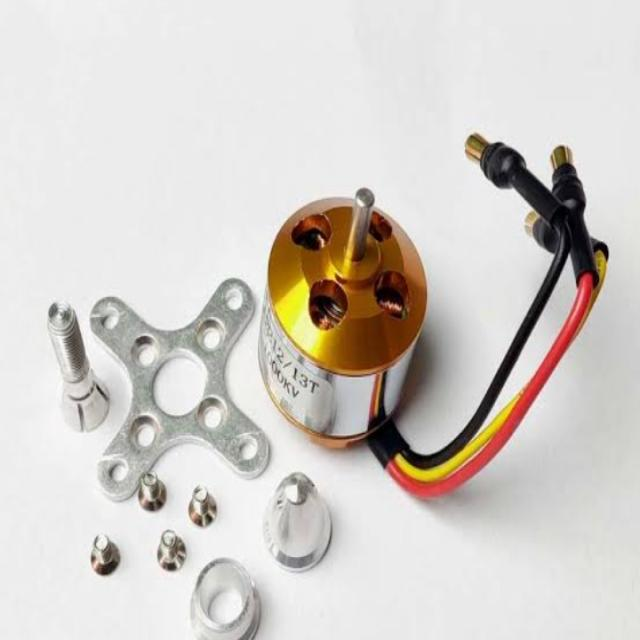motor: (260, 187, 428, 448)
